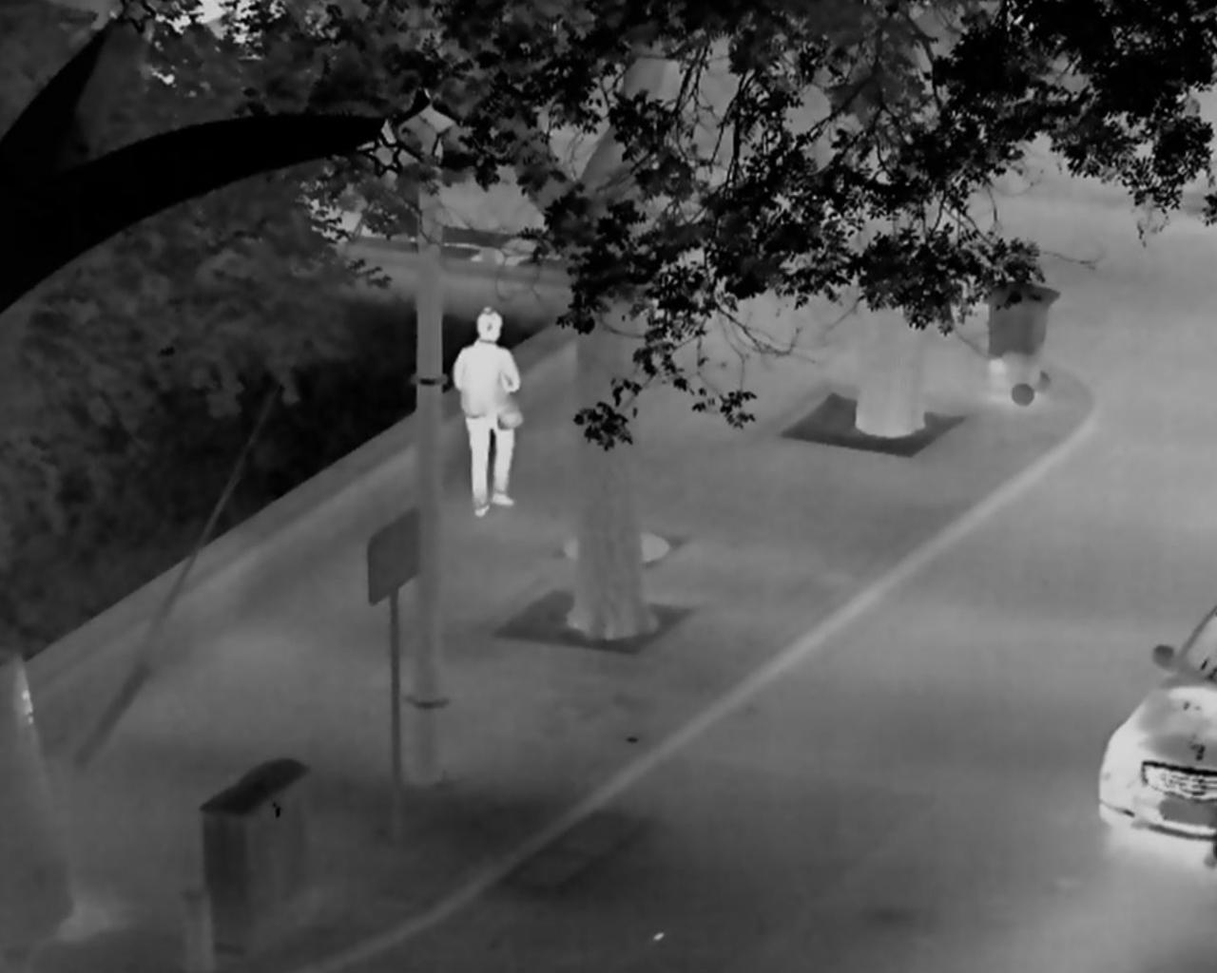person: (452, 304, 525, 519)
